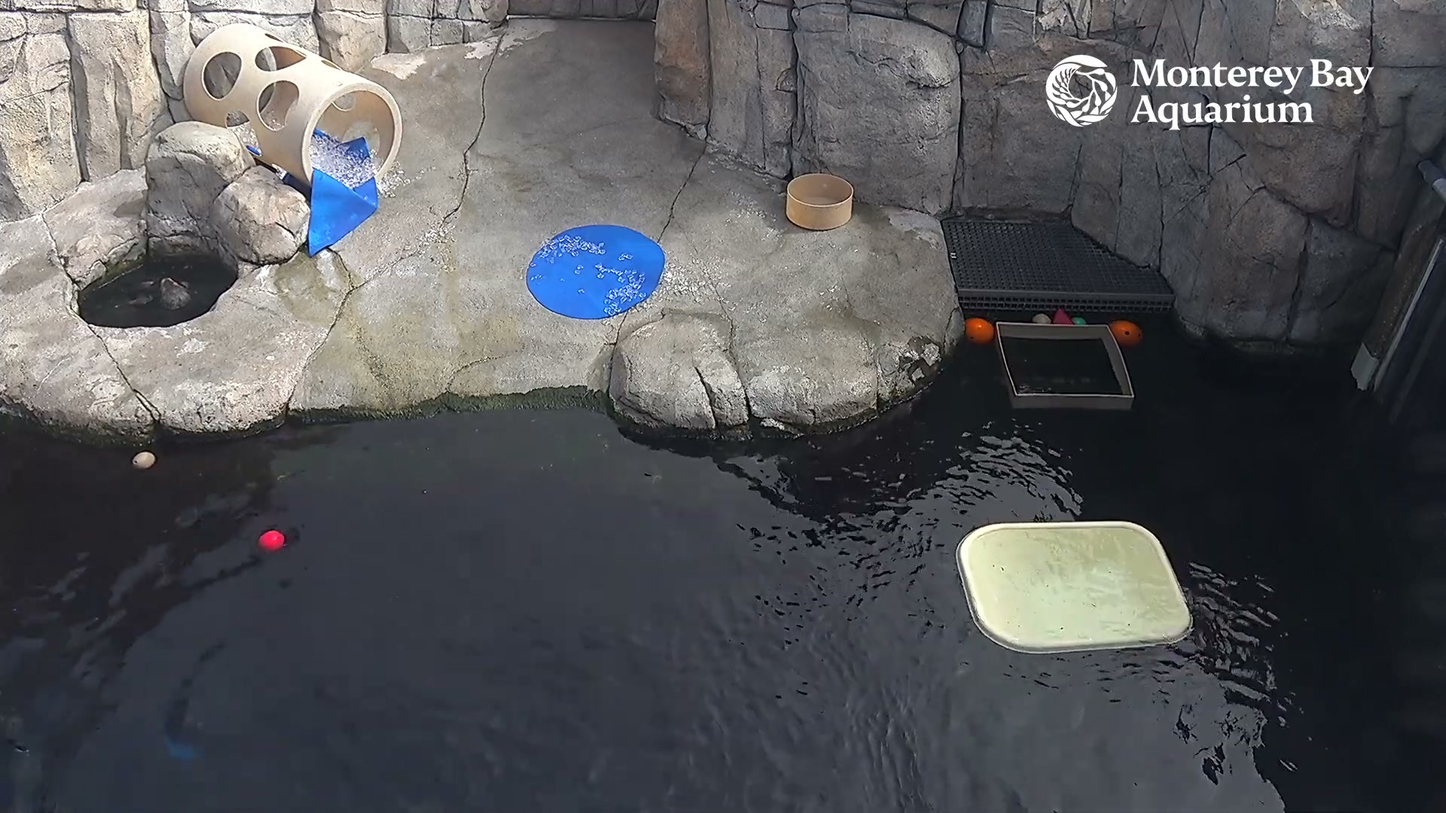Southern Sea Otter: (111, 259, 199, 324)
